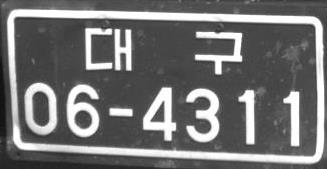0: (22, 81, 58, 135)
1: (277, 90, 312, 147), (232, 88, 266, 146)
3: (185, 86, 220, 142)
4: (142, 85, 176, 141)
6: (66, 82, 99, 138)
대구_D: (84, 26, 243, 75)
